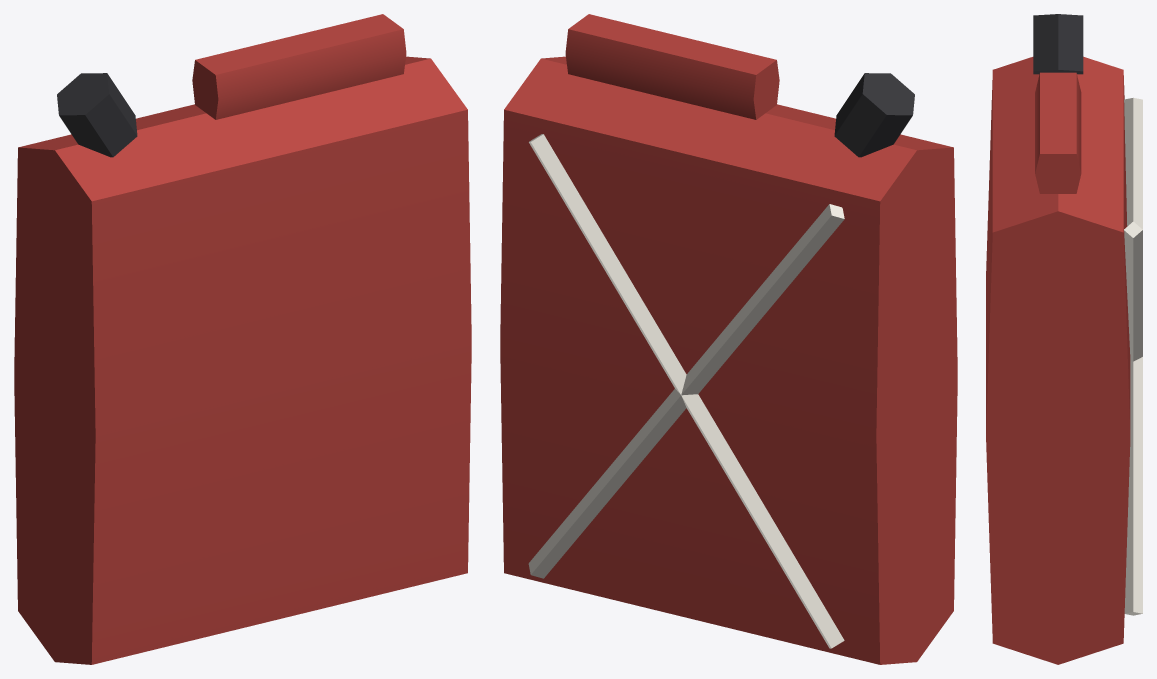
File: fuel_can_lod1.glb
3 views of the same model, side by side, from view 1: azimuth 30°, elevation 25°; view 2: azimuth 150°, elevation 25°; view 3: azimuth 270°, elevation 25° (orthographic). The views are drawn at different scales.
Visible parts, largest first — view 1: fuel_can_lod1; view 2: fuel_can_lod1; view 3: fuel_can_lod1.
Part boxes in pixels (<box>): fuel_can_lod1: <box>14,14,471,664</box>; fuel_can_lod1: <box>500,14,957,664</box>; fuel_can_lod1: <box>986,14,1142,664</box>.
Size of the model in its own units: 0.2 by 0.2927 by 0.0815.
